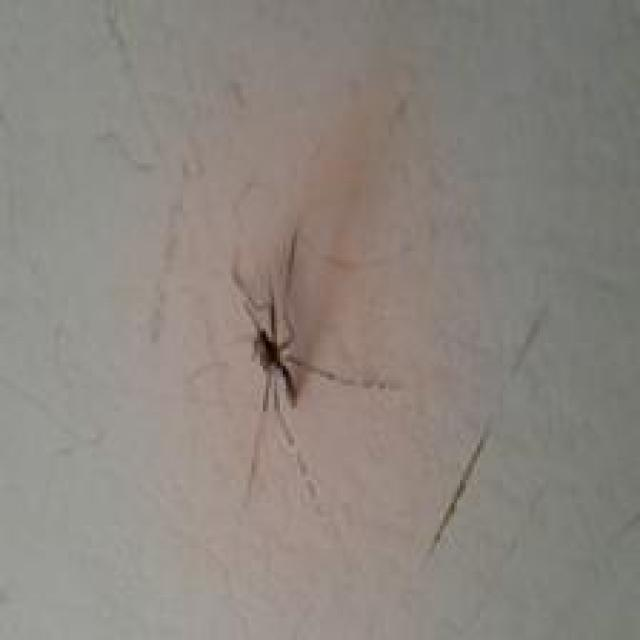Aedes albopictus: (225, 179, 402, 510)
